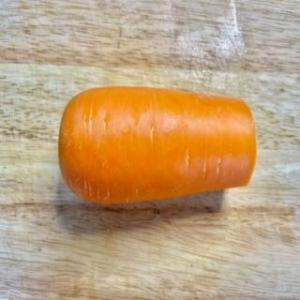carrot: (58, 85, 260, 208)
